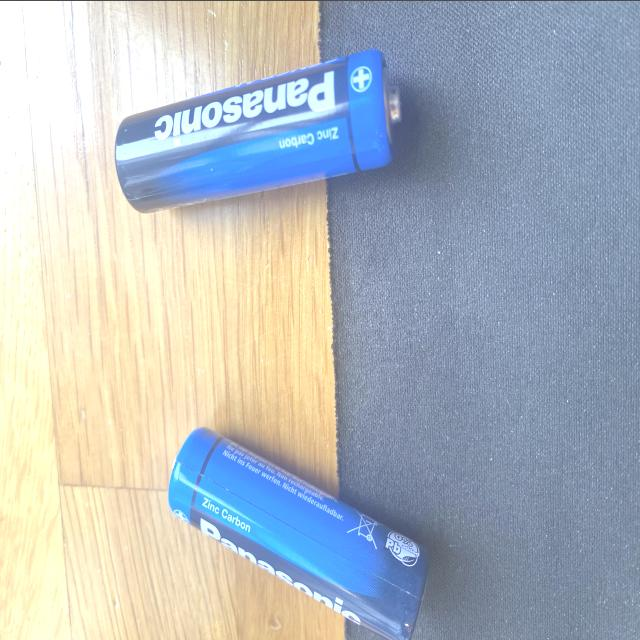AA: (166, 426, 430, 640), (114, 48, 402, 214)
